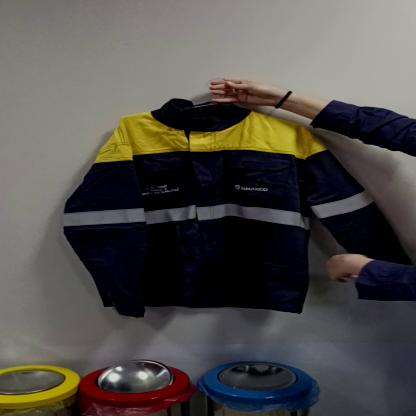C_eletrica: (59, 103, 414, 313)
